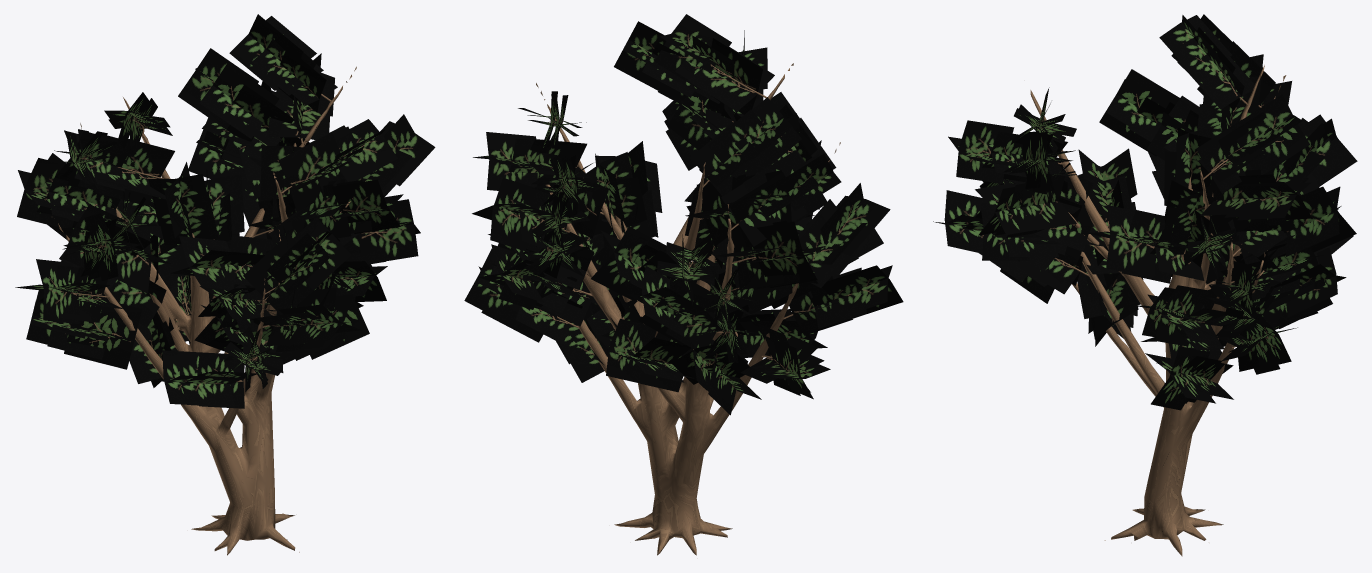
File: Arbousier_V10_3_LOD0.fbx
3 renders of one model, left to right at view 1: azimuth 30°, elevation 25°; view 2: azimuth 150°, elevation 25°; view 3: azimuth 270°, elevation 25°, orthographic.
Parts seen in each view (by area): view 1: Arbousier_V10_3_LOD0; view 2: Arbousier_V10_3_LOD0; view 3: Arbousier_V10_3_LOD0.
Boxes of the visible parts, x1,y1,x2,y2 form: Arbousier_V10_3_LOD0: (15,14,435,555); Arbousier_V10_3_LOD0: (464,14,903,555); Arbousier_V10_3_LOD0: (933,14,1357,556).
Size of the model in its own units: 297 by 349 by 286.
